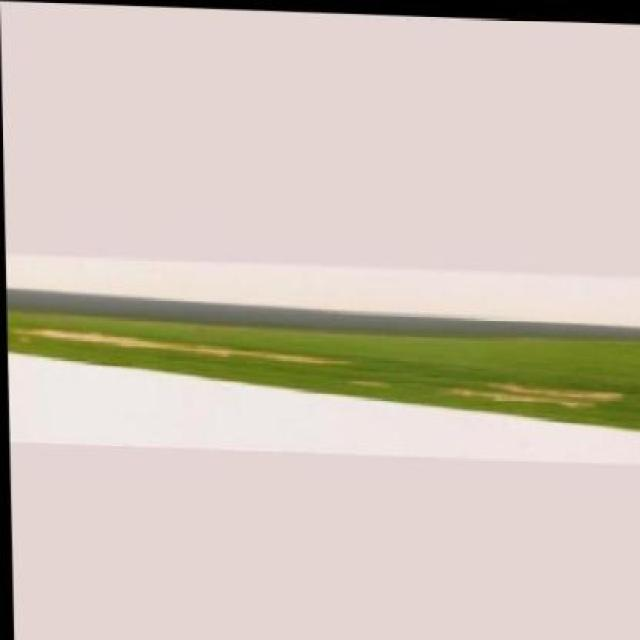Brown_Spot: (4, 303, 640, 430)
